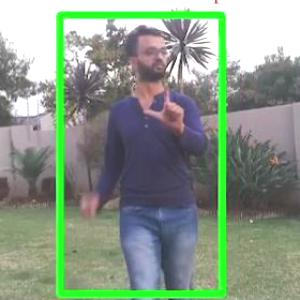land_hand: (144, 76, 189, 131)
